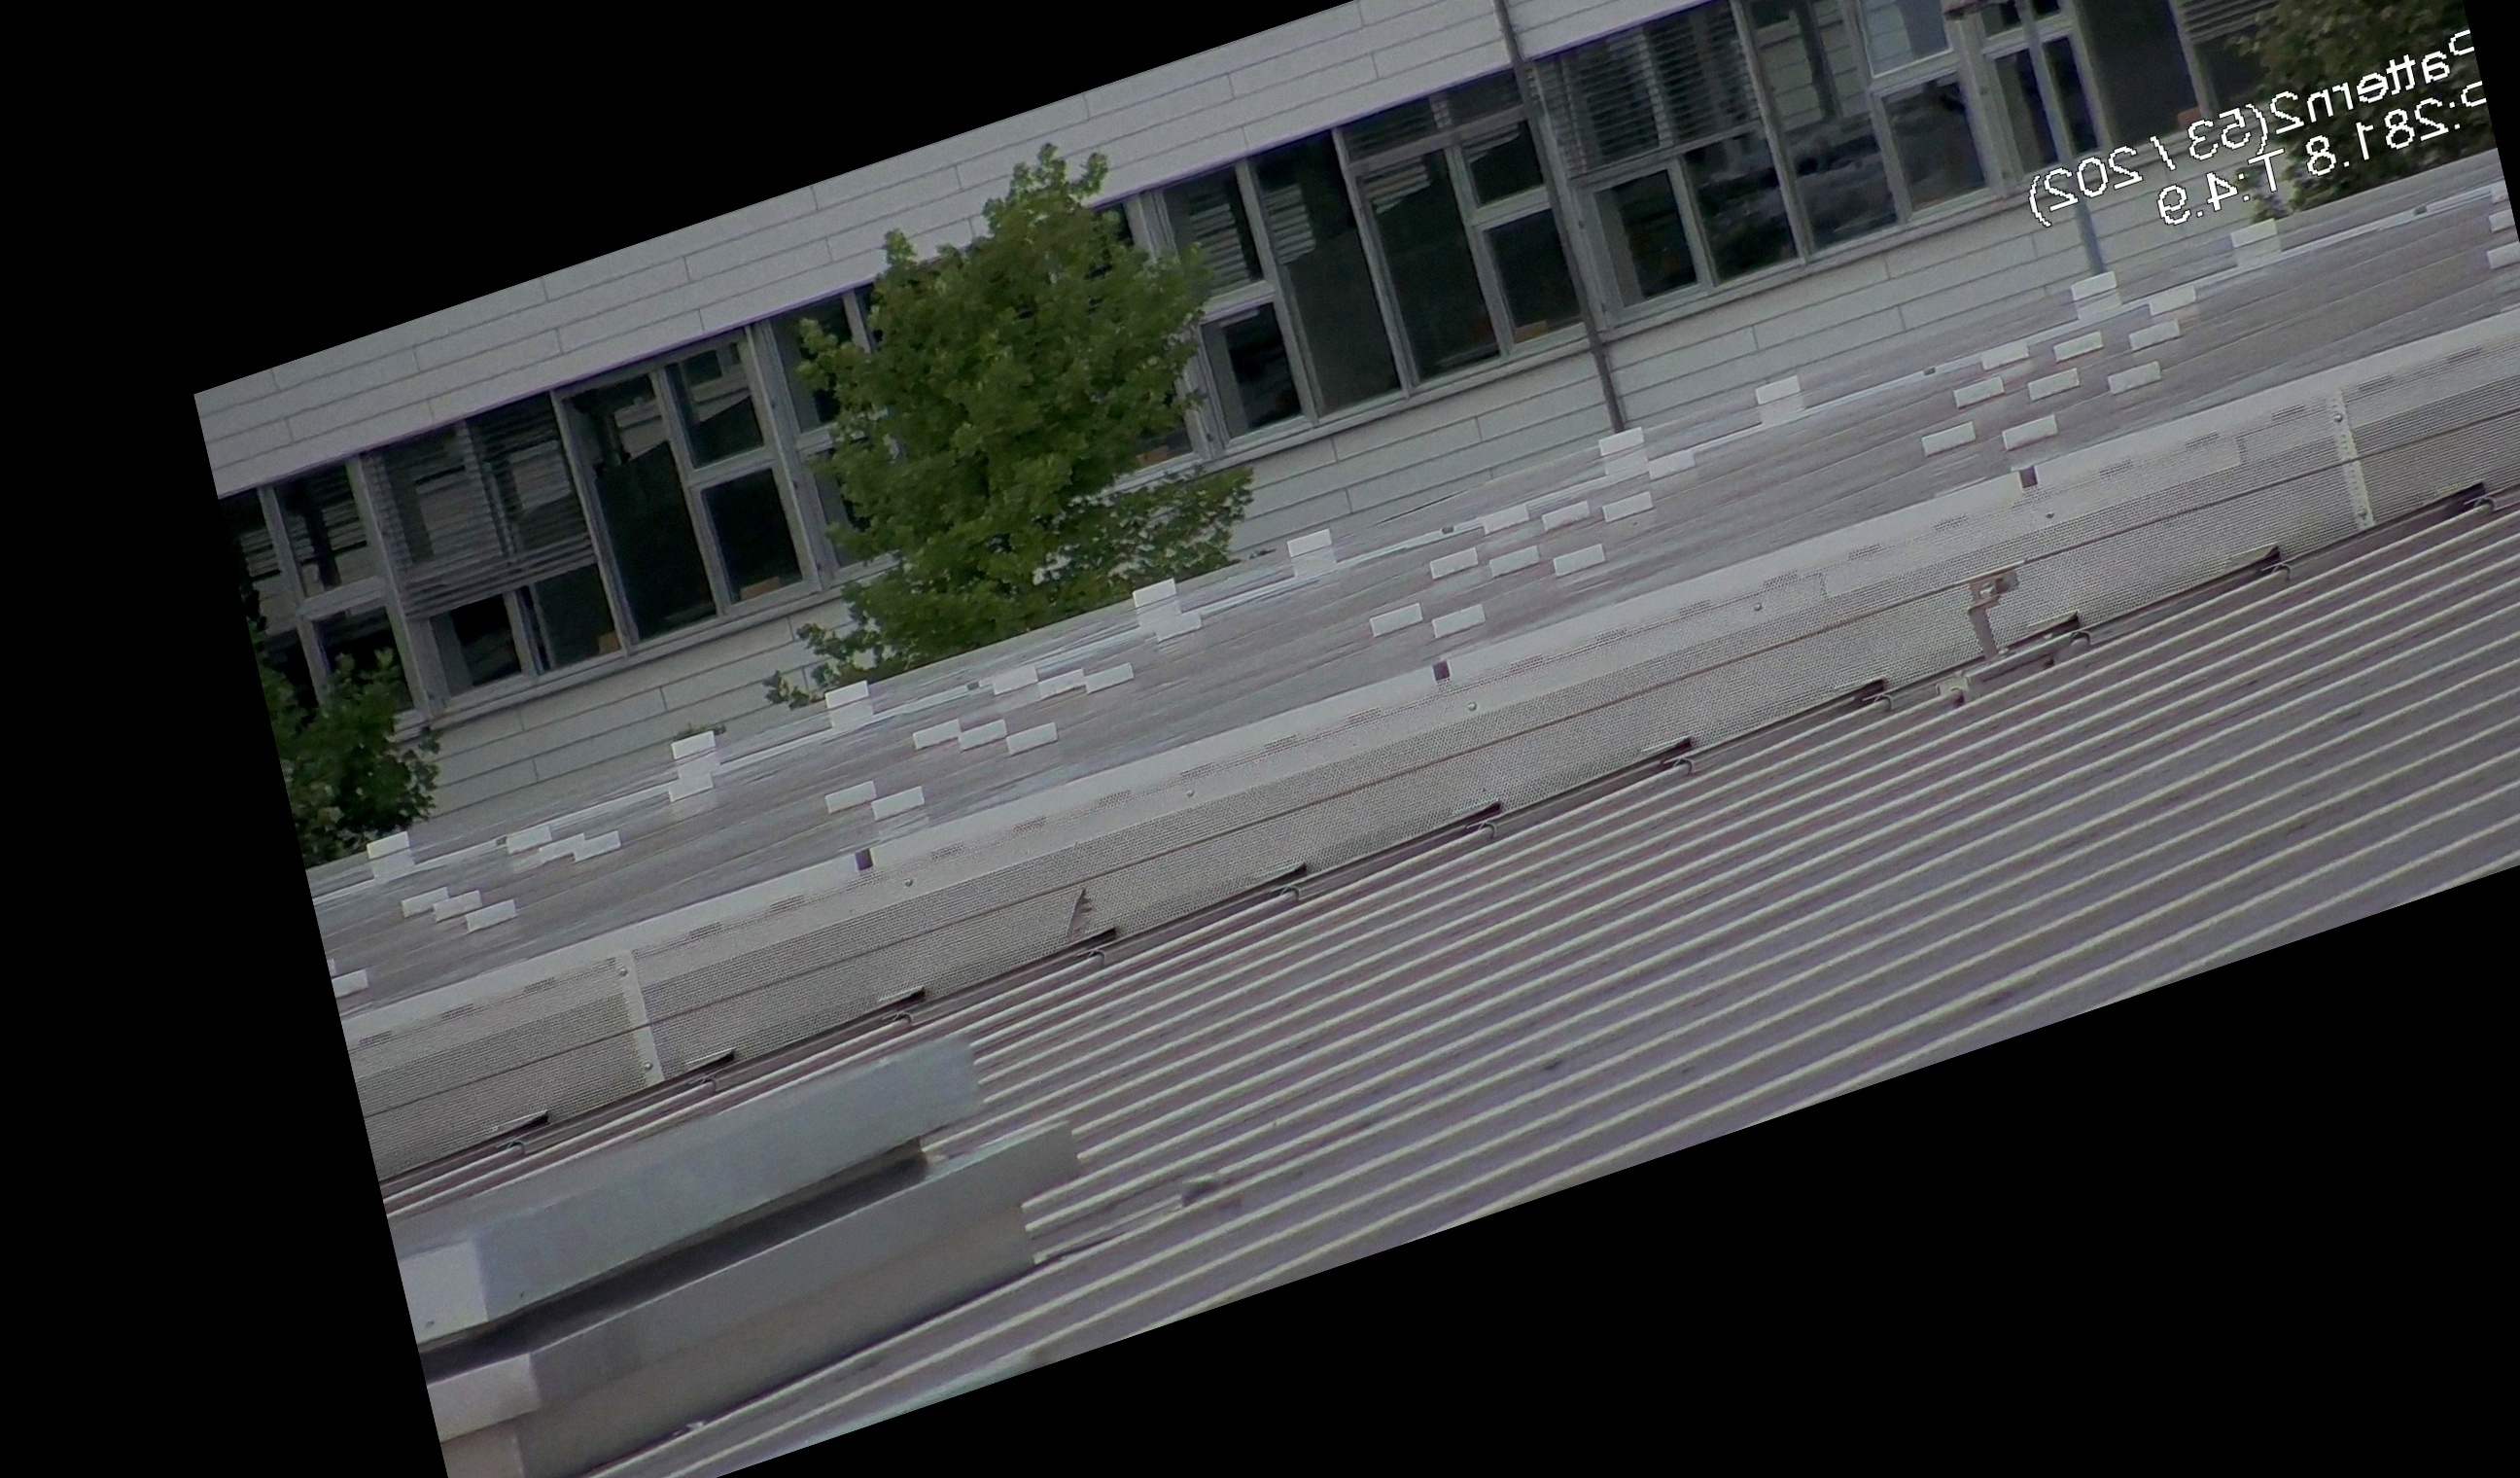Other: (1034, 866, 1117, 968)
